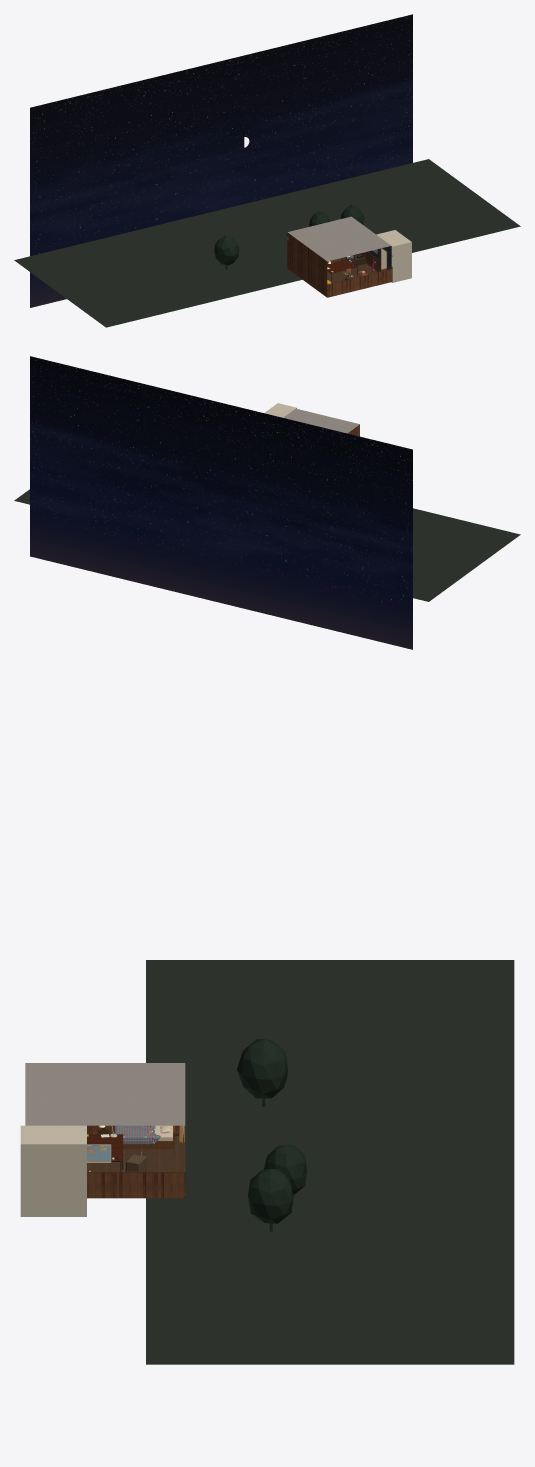
File: bedroom.glb
3 renders of one model, top to bottom at view 1: azimuth 30°, elevation 25°; view 2: azimuth 150°, elevation 25°; view 3: azimuth 270°, elevation 25°, orthographic. The views are drawn at different scales.
Parts seen in each view (by area): view 1: Outside Sky, Outside Ground, Mesh_14, Landing Walls, Mesh_26, Mesh_21, Outside Tree 0, Mesh_25, Mesh_13; view 2: Outside Sky, Outside Ground, Mesh_14; view 3: Outside Ground, Mesh_14, Landing Walls, Mesh_29, Outside Tree 0, Outside Tree 2, Mesh_13, Outside Tree 1.
Part boxes in pixels (x1,y1,x2,y2): Outside Sky: [30, 14, 412, 307]; Outside Ground: [14, 159, 520, 327]; Mesh_14: [287, 216, 390, 261]; Landing Walls: [376, 230, 411, 282]; Mesh_26: [287, 232, 327, 284]; Mesh_21: [327, 269, 391, 297]; Outside Tree 0: [214, 235, 239, 265]; Mesh_25: [287, 256, 327, 297]; Mesh_13: [327, 257, 377, 283]; Outside Sky: [30, 356, 412, 649]; Outside Ground: [14, 489, 520, 601]; Mesh_14: [283, 408, 359, 433]; Outside Ground: [146, 960, 514, 1364]; Mesh_14: [25, 1063, 185, 1125]; Landing Walls: [20, 1125, 86, 1216]; Mesh_29: [87, 1172, 185, 1198]; Outside Tree 0: [237, 1038, 288, 1098]; Outside Tree 2: [248, 1169, 293, 1223]; Mesh_13: [87, 1135, 184, 1171]; Outside Tree 1: [264, 1145, 307, 1195].
Size of the model in its own units: 260 by 120 by 134.
173 materials, 42 textured.
